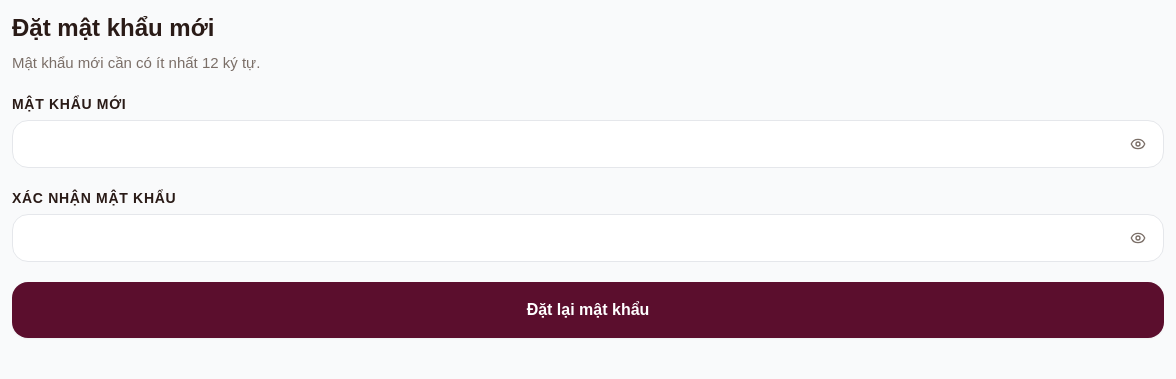
Test: Web password recovery › requires matching passwords before consuming the token
Type "a-secure-password" into the password field labelled "Mật khẩu mới" at (588, 144), box top-left (12, 120), bottom-right (1164, 168)
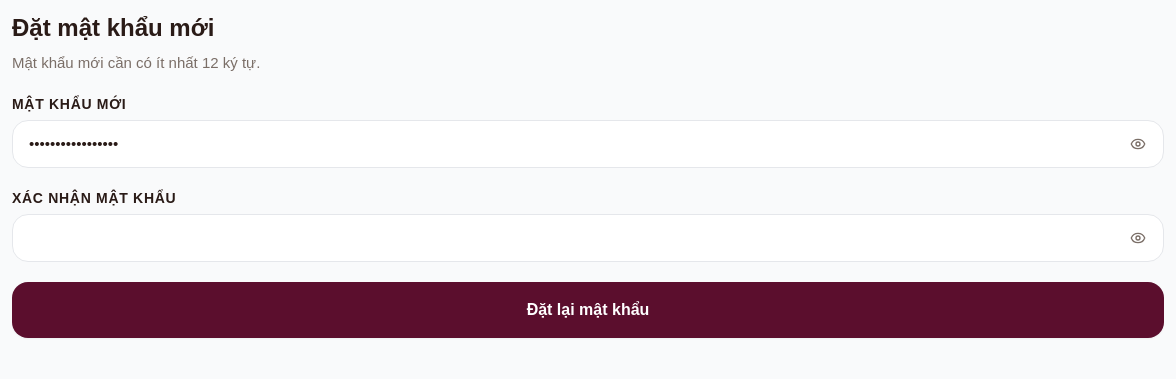
Type "different-password" into the password field labelled "Xác nhận mật khẩu" at (588, 238), box top-left (12, 214), bottom-right (1164, 262)
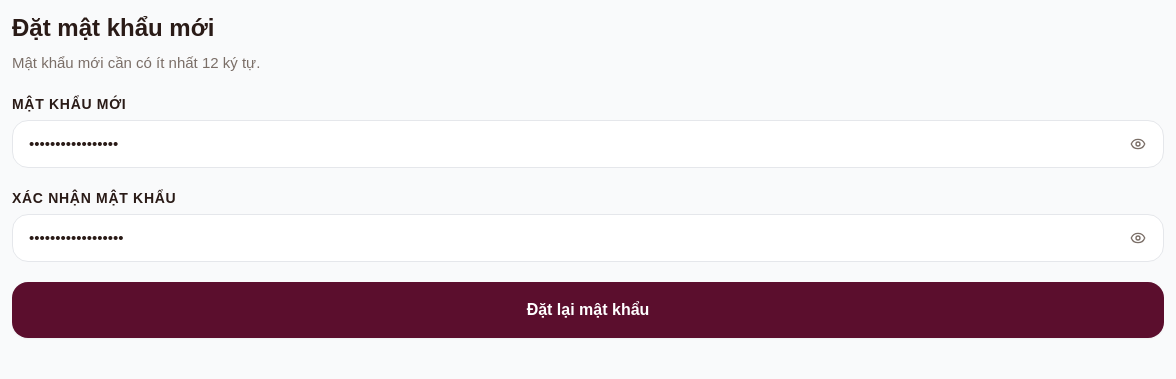
Click the button "Đặt lại mật khẩu" at (588, 310), box top-left (12, 282), bottom-right (1164, 338)
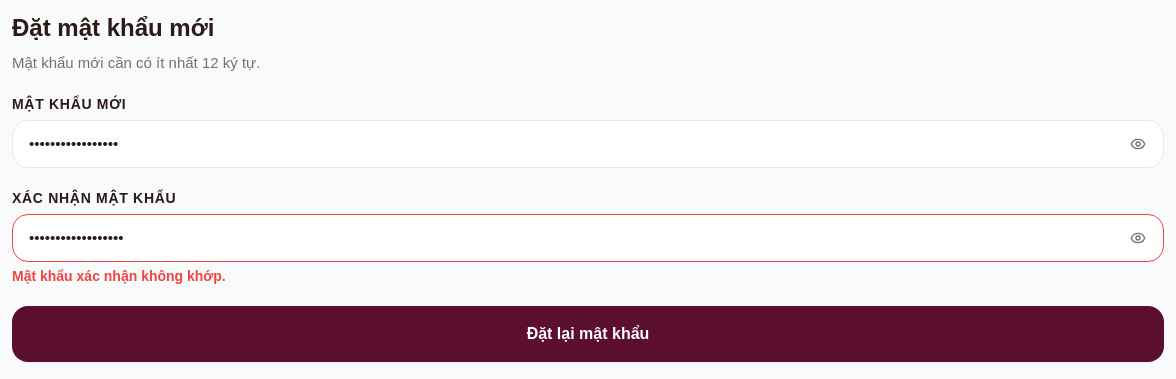
Check: the text "Mật khẩu xác nhận không khớp." is shown, box top-left (12, 268), bottom-right (226, 284)
